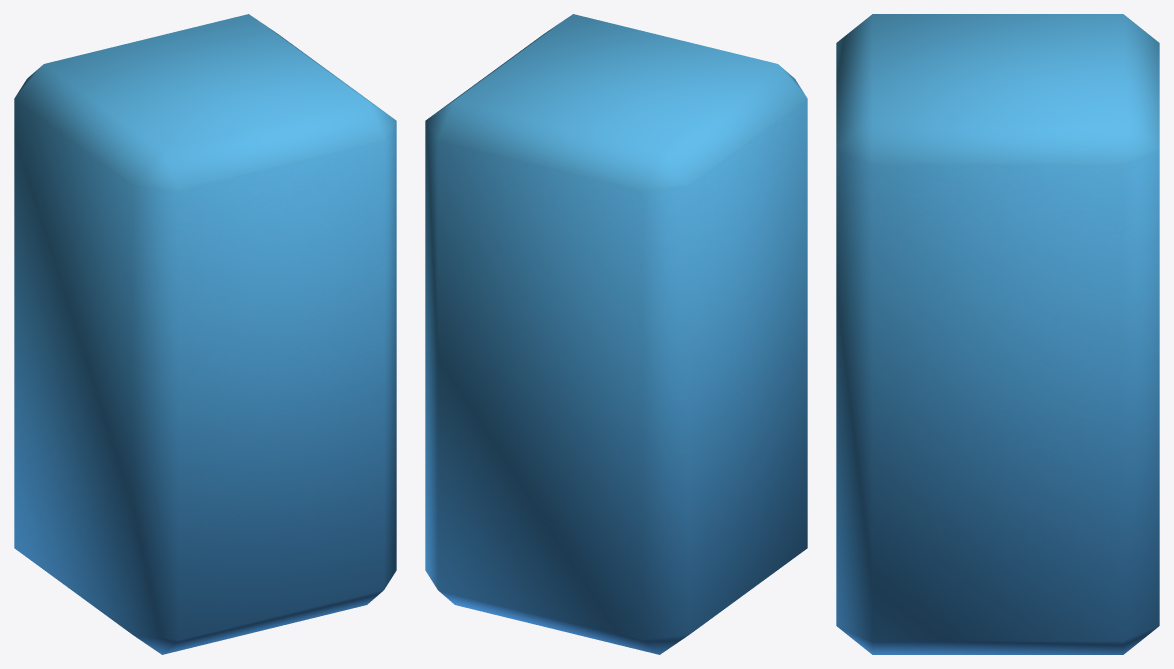
File: water_top_1x1_deep.fbx
3 views of the same model, side by side, from view 1: azimuth 30°, elevation 25°; view 2: azimuth 150°, elevation 25°; view 3: azimuth 270°, elevation 25° (orthographic). The views are drawn at different scales.
Parts seen in each view (by area): view 1: water_top_1x1_deep; view 2: water_top_1x1_deep; view 3: water_top_1x1_deep.
Part boxes in pixels (<box>): water_top_1x1_deep: <box>14,14,396,654</box>; water_top_1x1_deep: <box>425,14,807,654</box>; water_top_1x1_deep: <box>836,14,1159,654</box>.
Bounding box in the file's own units: 127 × 231 × 127.
